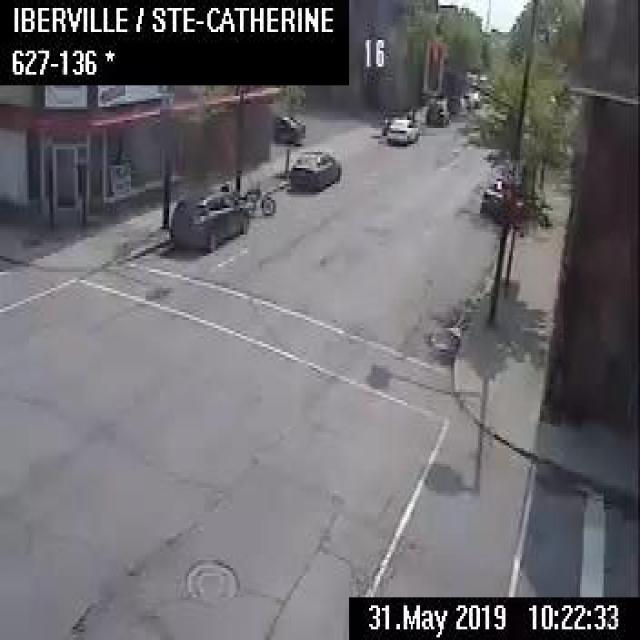vehicle: (170, 187, 248, 248), (288, 147, 340, 192), (231, 177, 275, 214), (478, 175, 508, 218), (271, 110, 304, 142), (385, 116, 418, 144), (424, 100, 449, 126), (458, 88, 479, 107)
